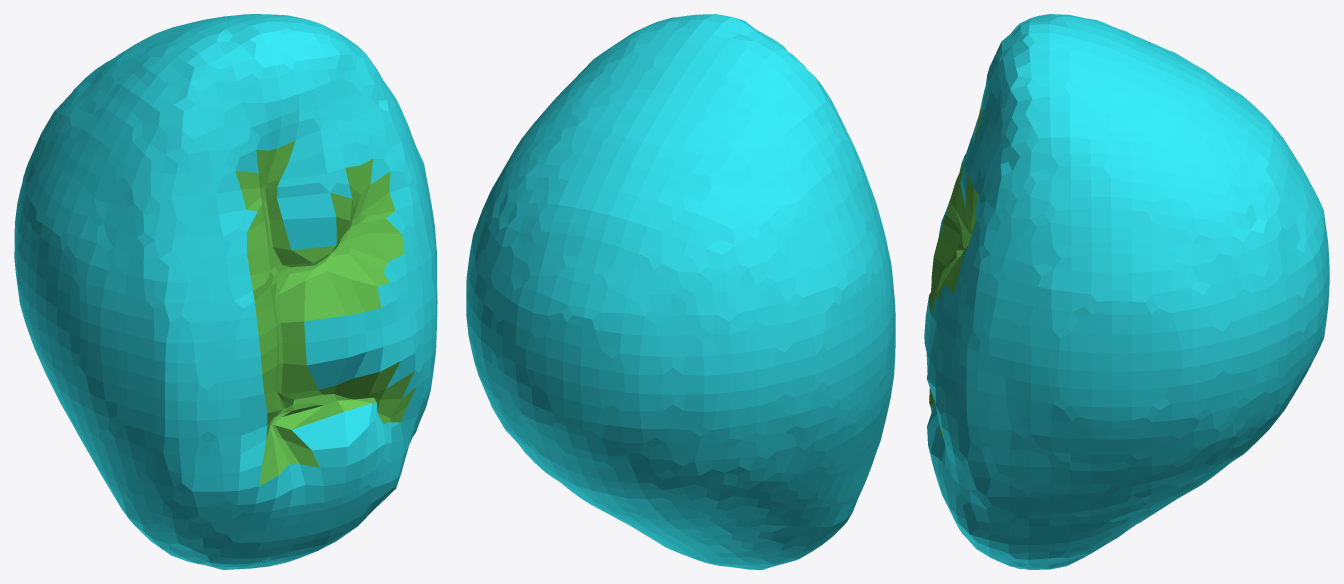
The model's file is leftEye.fbx.
The picture shows the model from 3 angles, left to right: view 1: azimuth 30°, elevation 25°; view 2: azimuth 150°, elevation 25°; view 3: azimuth 270°, elevation 25°; orthographic projection.
Parts seen in each view (by area): view 1: LeftEye; view 2: LeftEye; view 3: LeftEye.
Boxes of the visible parts, left/top/right/bottom form: LeftEye: left=14, top=14, right=437, bottom=569; LeftEye: left=466, top=14, right=895, bottom=569; LeftEye: left=924, top=14, right=1329, bottom=569.
Size of the model in its own units: 38.88 by 54.29 by 37.46.
